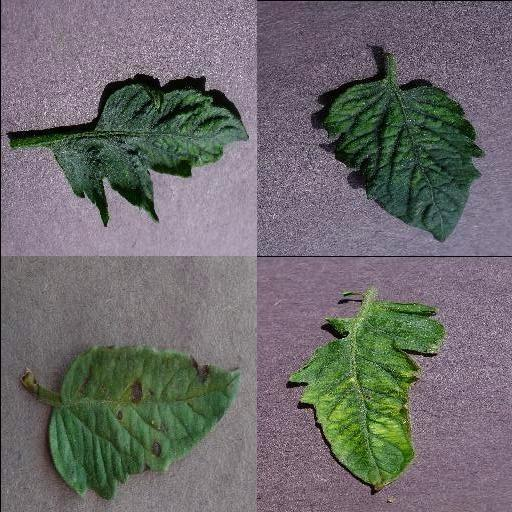Early Blight: (44, 346, 240, 502)
Mosaic Virus: (287, 300, 447, 494), (46, 78, 250, 228), (318, 78, 484, 244)
